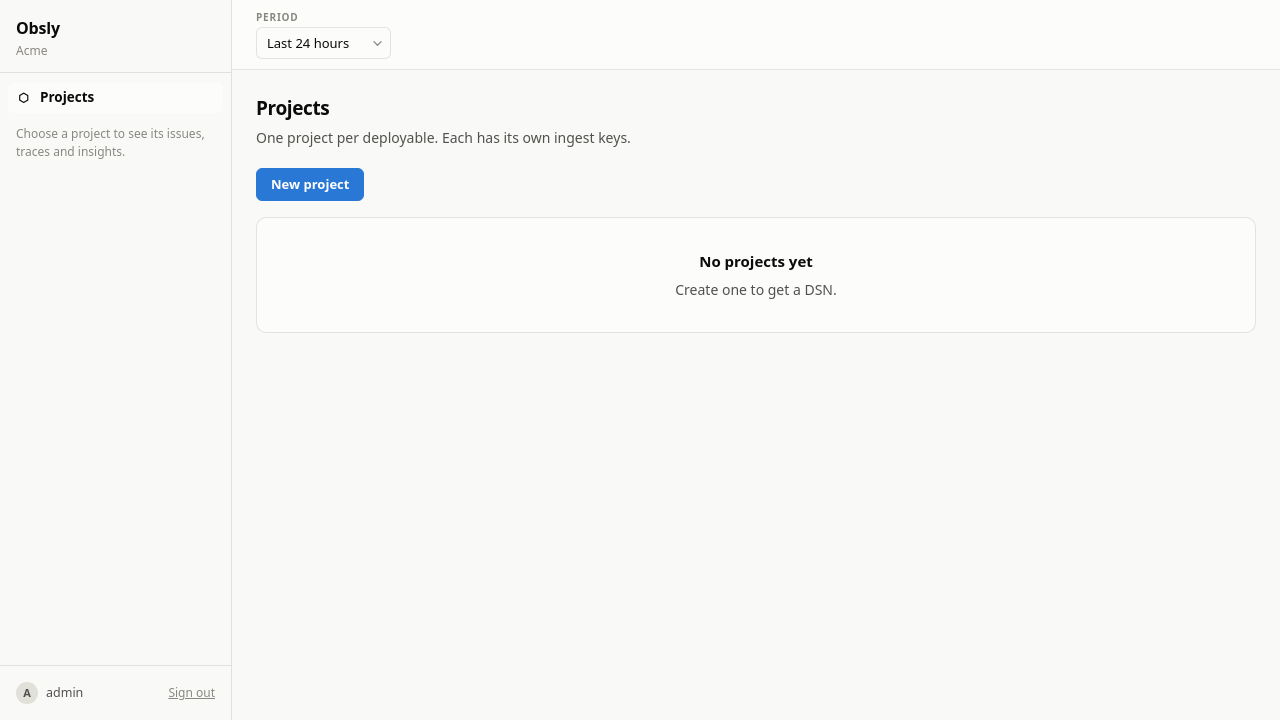
Test case: Projects page › says why it never asked for a language
What coordinates should you click on to do the following:
click the button "New project"
I would click on:
 (310, 184)
Its box is [256, 168, 364, 201].
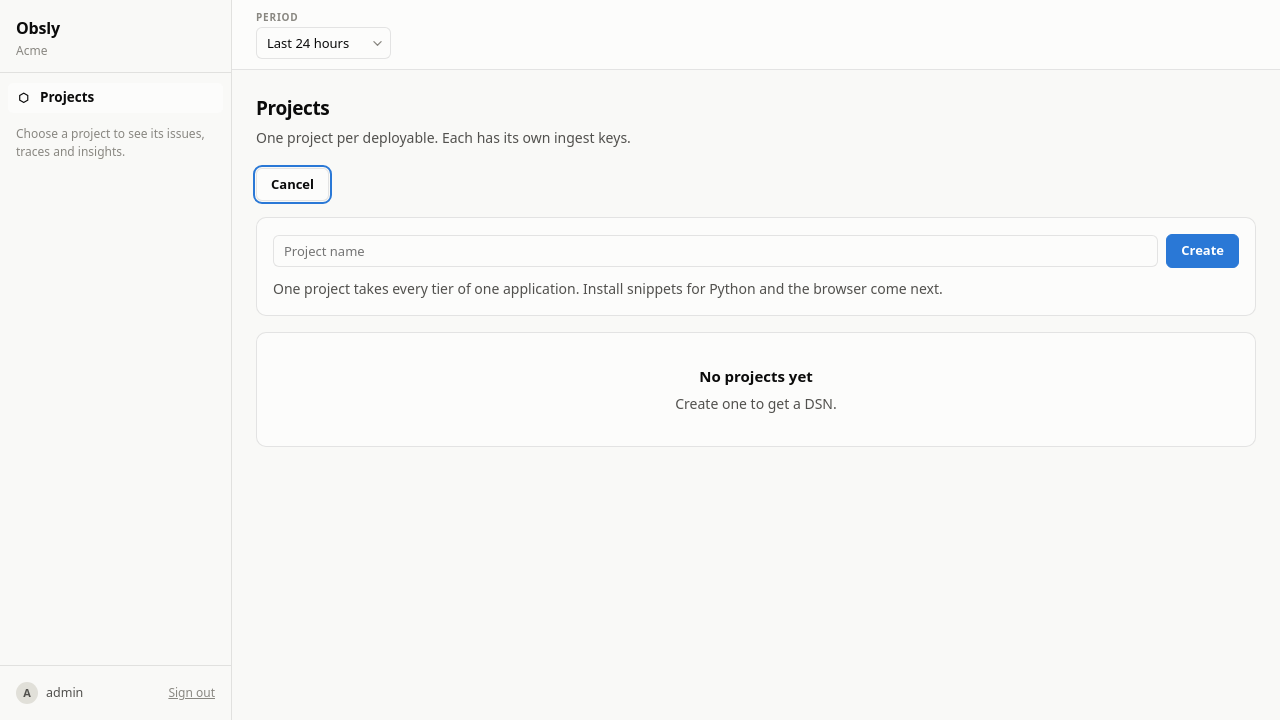
Check: the text "every tier of one application" is shown, box [273, 279, 943, 298]
